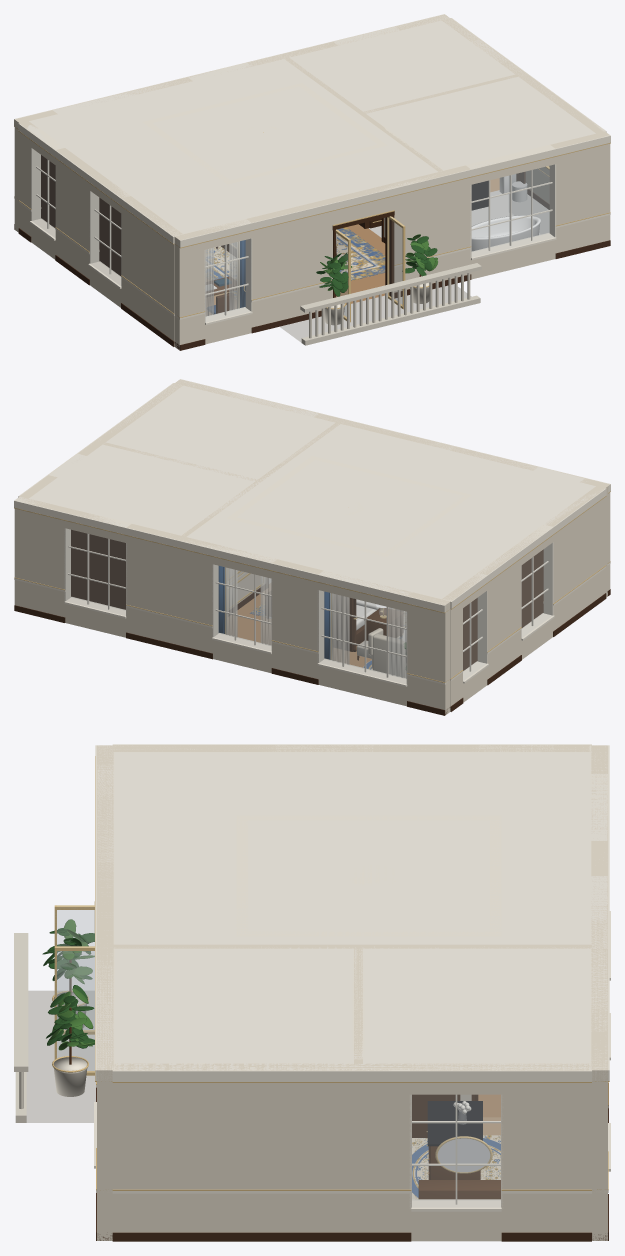
The model's file is hades-bedroom.glb.
The picture shows the model from 3 angles, top to bottom: view 1: azimuth 30°, elevation 25°; view 2: azimuth 150°, elevation 25°; view 3: azimuth 270°, elevation 25°; orthographic projection. The views are drawn at different scales.
Parts seen in each view (by area): view 1: plane, box.078, box.091, box.101, box.110, box.150, box.133, box.071, box.061, plane.006, box.143, box.403 (+40 smaller); view 2: plane, box.037, box.010, box.150, box.055, box.019, box, box.047, box.029, box.133, box.617, box.143 (+43 smaller); view 3: plane, box.173, box.156, box.166, plane.004, box.177, box.110, box.055, box.174, box.327, box.162, box.332 (+33 smaller).
Part boxes in pixels (x1,y1,x2,y2): plane: [27, 15, 595, 234]; box.078: [246, 198, 335, 327]; box.091: [386, 165, 470, 292]; box.101: [472, 165, 554, 256]; box.110: [550, 131, 610, 253]; box.150: [121, 196, 182, 346]; box.133: [56, 148, 98, 279]; box.071: [205, 239, 250, 321]; box.061: [174, 230, 204, 349]; plane.006: [206, 227, 385, 298]; box.143: [90, 191, 121, 285]; box.403: [41, 155, 121, 275]; plane: [16, 379, 602, 604]; box.037: [126, 524, 217, 653]; box.010: [319, 591, 406, 683]; box.150: [546, 486, 605, 631]; box.055: [14, 497, 70, 617]; box.019: [272, 559, 323, 679]; box: [407, 592, 450, 715]; box.047: [66, 529, 125, 615]; box.029: [213, 565, 271, 650]; box.133: [478, 548, 521, 679]; box.617: [71, 531, 125, 609]; box.143: [521, 544, 551, 636]; plane: [97, 745, 607, 1070]; box.173: [112, 1063, 411, 1232]; box.156: [501, 1063, 591, 1232]; box.166: [412, 1095, 500, 1206]; plane.004: [26, 990, 95, 1122]; box.177: [112, 1063, 411, 1081]; box.110: [97, 1029, 113, 1240]; box.055: [591, 1032, 607, 1240]; box.174: [112, 1232, 411, 1241]; box.327: [55, 906, 94, 1029]; box.162: [411, 1211, 501, 1241]; box.332: [56, 947, 94, 1071].
Size of the model in its own units: 13.21 by 3.22 by 10.15.
Materials: 58 (5 with a texture image).
